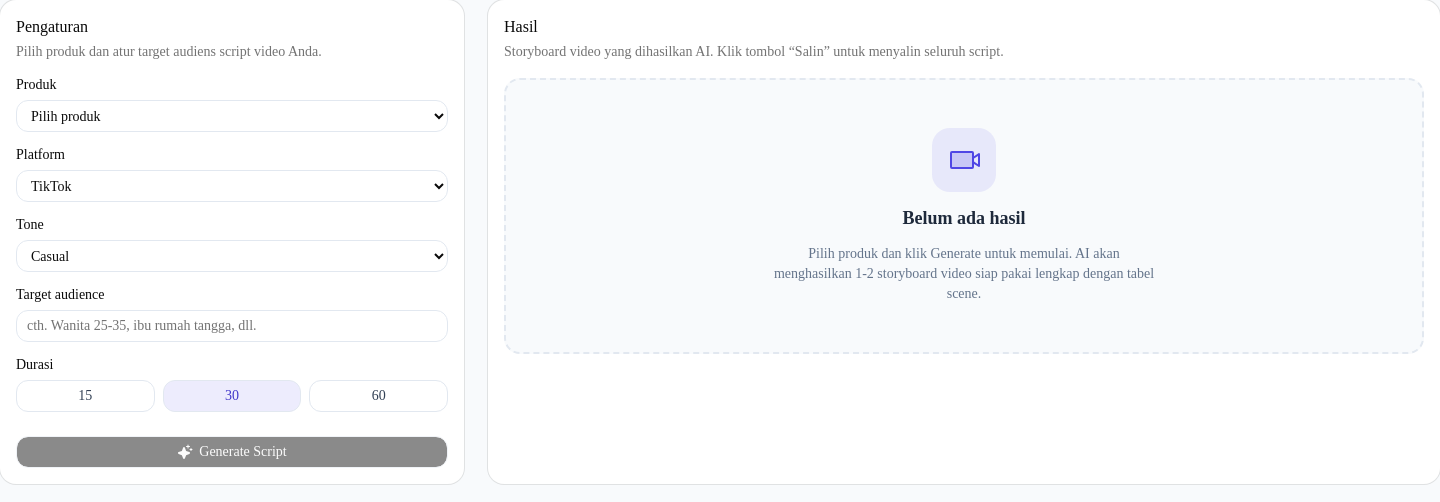
it: ScriptGenerator › shows error message in the result panel when generateScripts returns an error
Select "Sample Product A" in the dropdown labelled "Produk" at (232, 116), box [16,100,448,132]
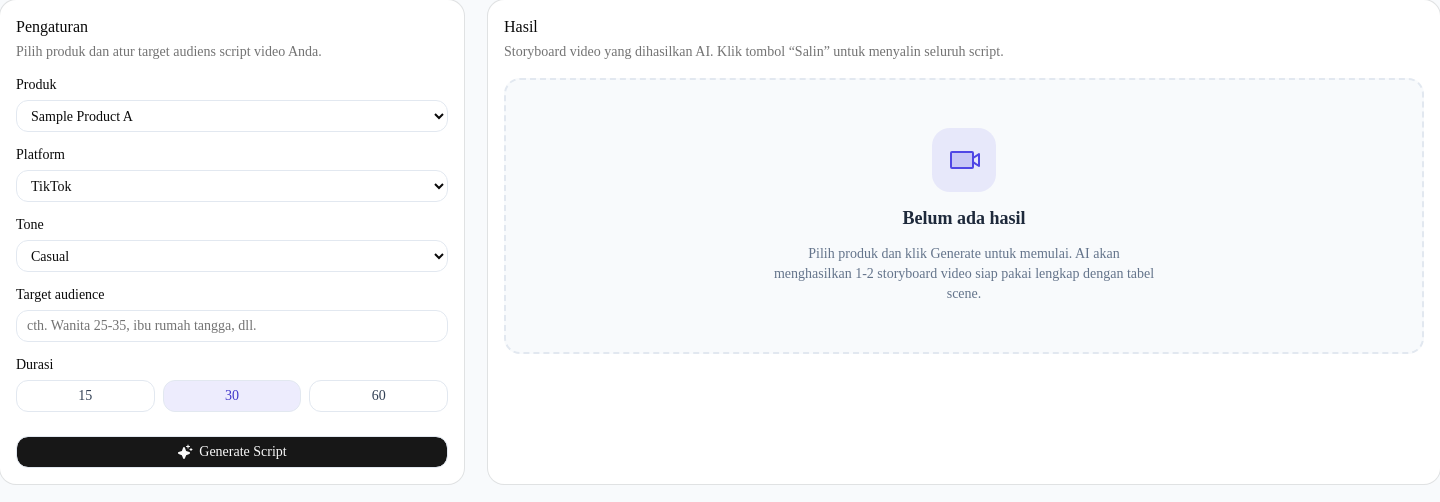
Click the button "Generate Script" at (232, 452), box [16,436,448,468]
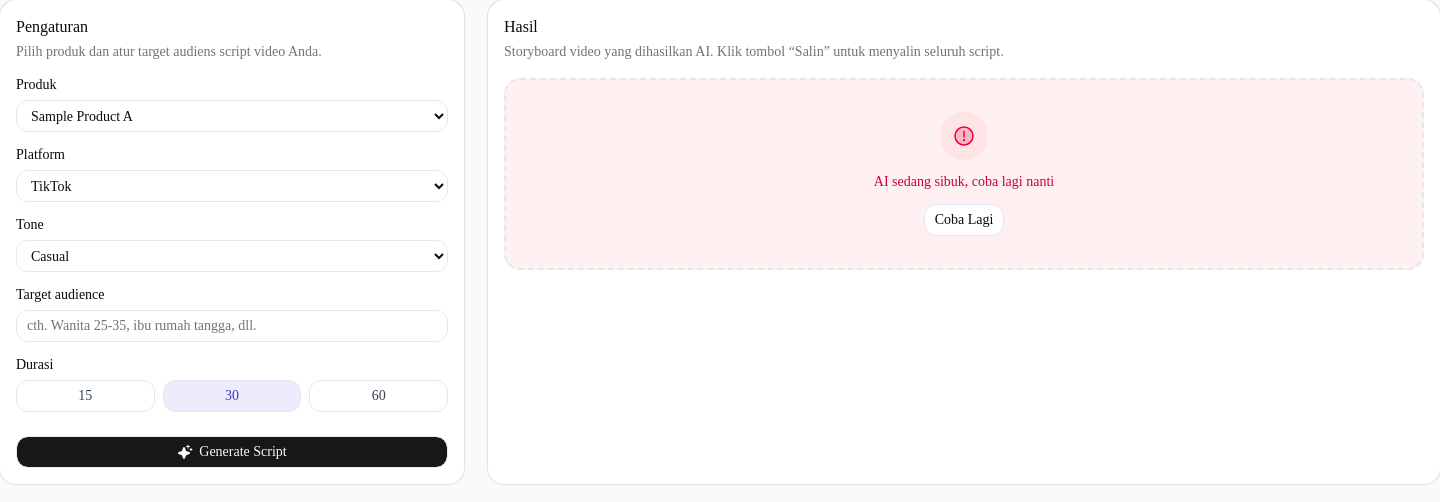
Check: the element with test id "script-error" is shown, box [504,78,1424,270]
Check: the text "AI sedang sibuk, coba lagi nanti" is shown, box [874,172,1054,192]
